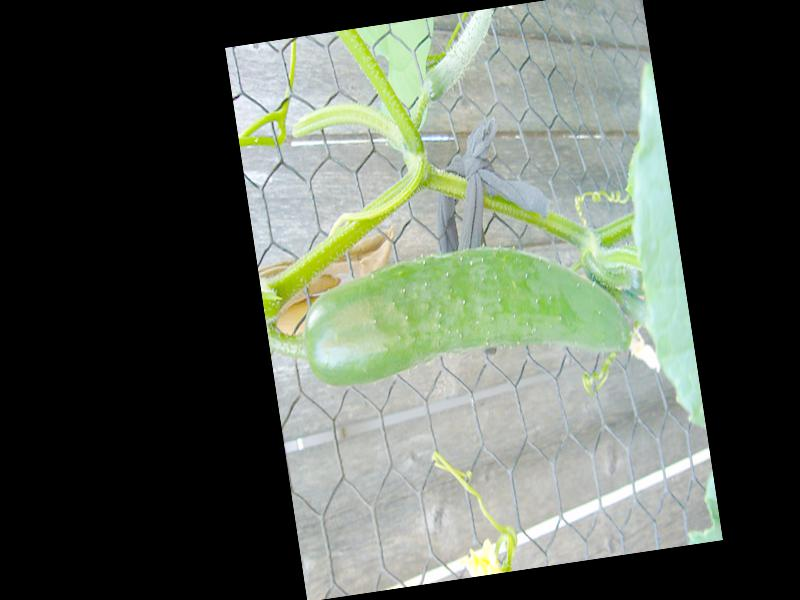Cucumber: (294, 225, 631, 398)
